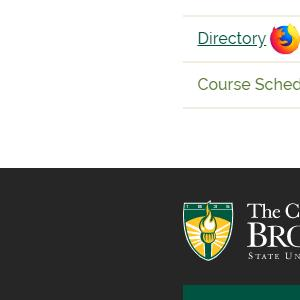firefox: (270, 23, 300, 54)
